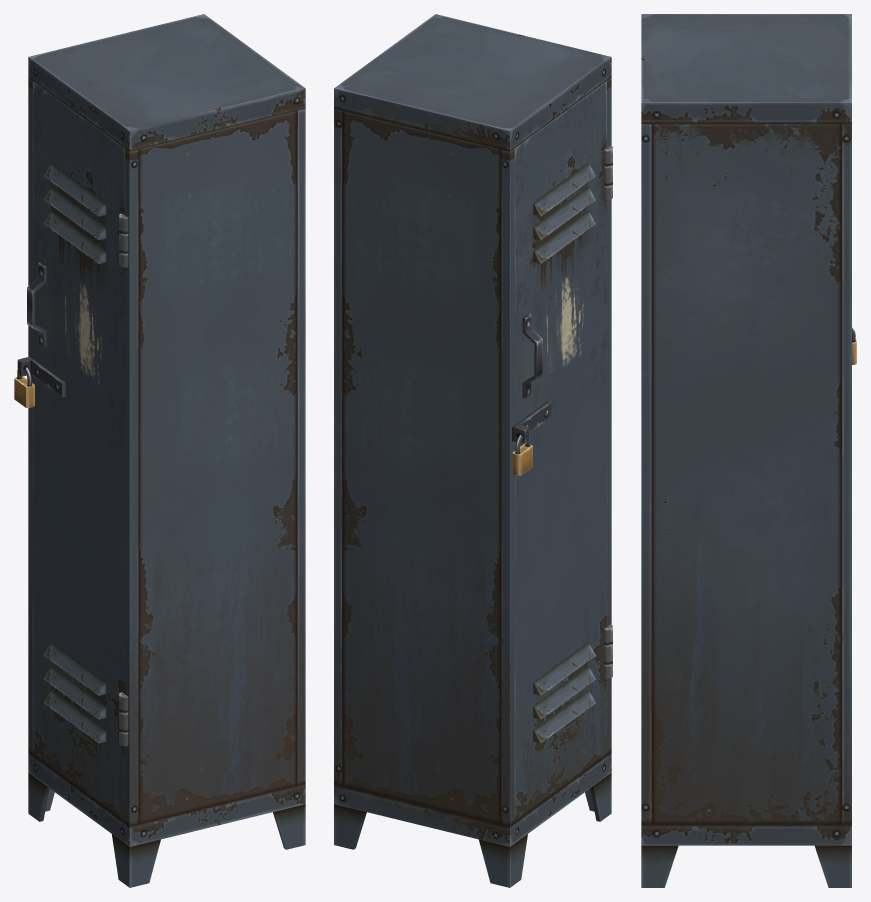
File: locker02.FBX
3 renders of one model, left to right at view 1: azimuth 30°, elevation 25°; view 2: azimuth 150°, elevation 25°; view 3: azimuth 270°, elevation 25°, orthographic. The views are drawn at different scales.
Visible parts, largest first — view 1: locker02, locker02_door01, lock; view 2: locker02, locker02_door01, lock; view 3: locker02.
Part boxes in pixels (x1,y1,x2,y2): locker02: [17, 14, 305, 887]; locker02_door01: [19, 81, 128, 822]; lock: [14, 367, 34, 407]; locker02: [334, 14, 611, 887]; locker02_door01: [514, 81, 612, 822]; lock: [512, 435, 532, 475]; locker02: [641, 14, 851, 887].
Bounding box in the file's own units: 48.61 × 185 × 46.
